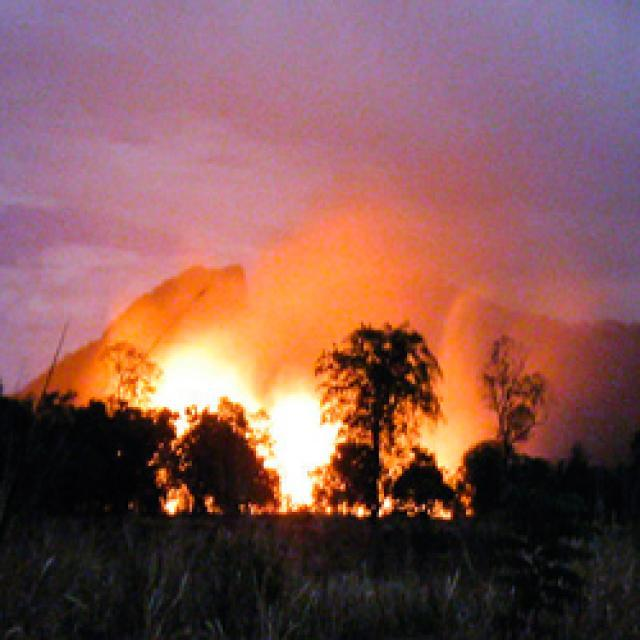Fire: (140, 344, 344, 519), (436, 501, 476, 528), (356, 498, 394, 522)
Smoke: (109, 153, 610, 347), (426, 346, 640, 476)
